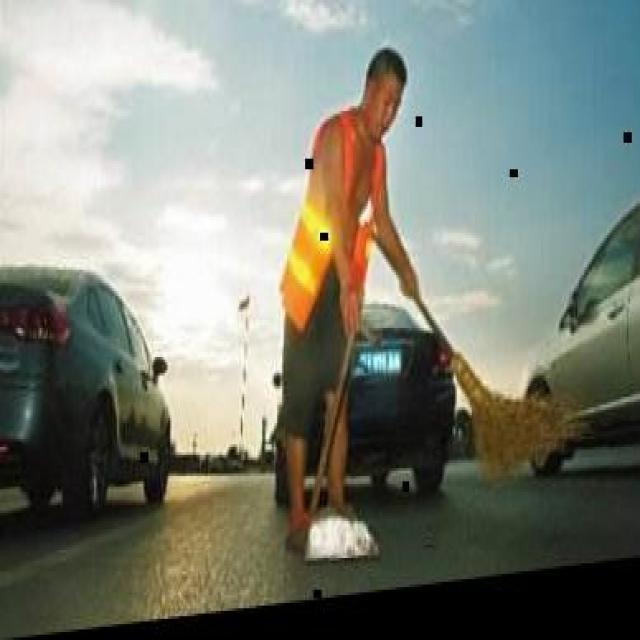safety_helmet: (281, 111, 396, 331)
